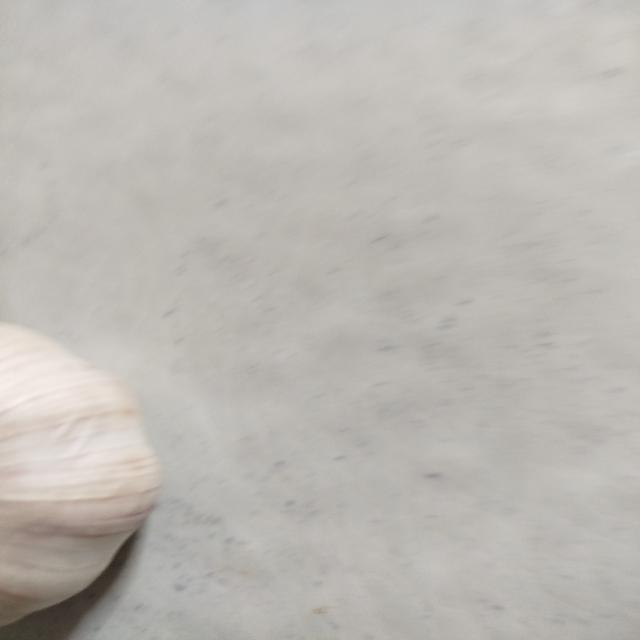garlic: (0, 321, 163, 627)
